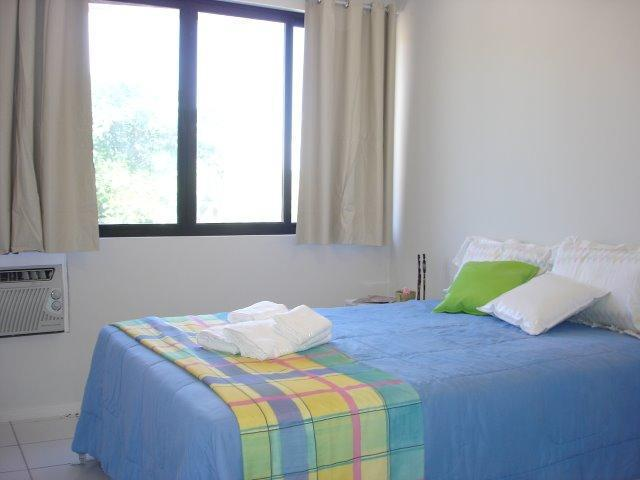Cama: (88, 226, 637, 475)
Ventana: (59, 3, 354, 234)
